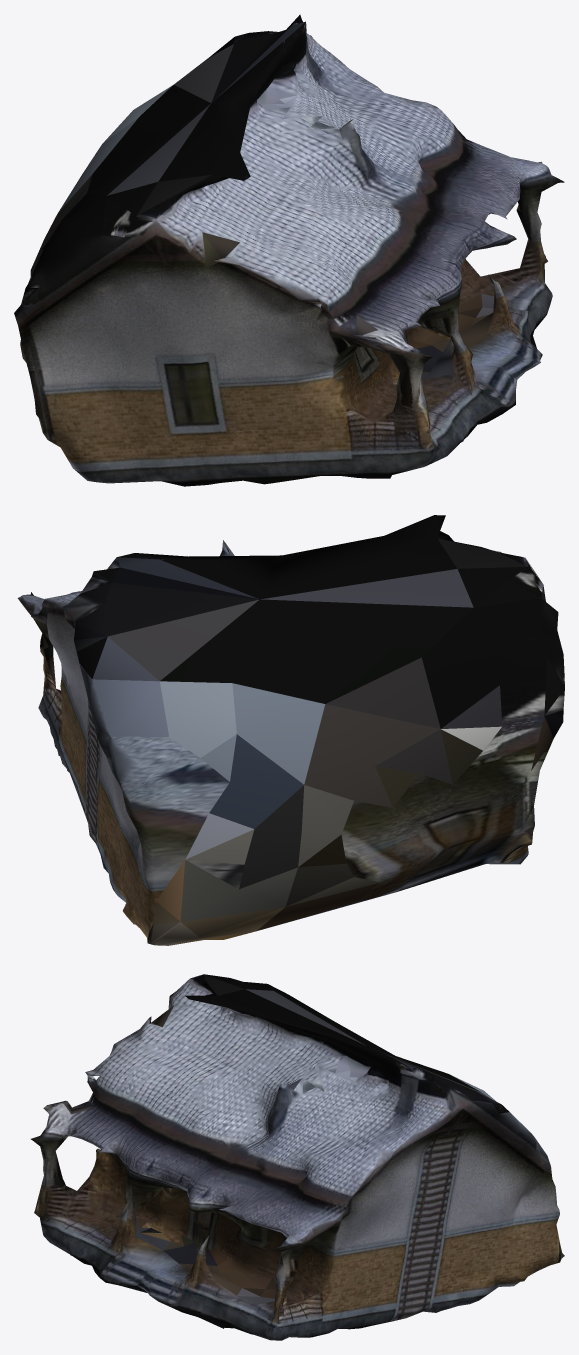
3 renders of one model, top to bottom at view 1: azimuth 30°, elevation 25°; view 2: azimuth 150°, elevation 25°; view 3: azimuth 270°, elevation 25°, orthographic. The views are drawn at different scales.
Size of the model in its own units: 938 by 521 by 1000.
Materials: 1 (1 with a texture image).
